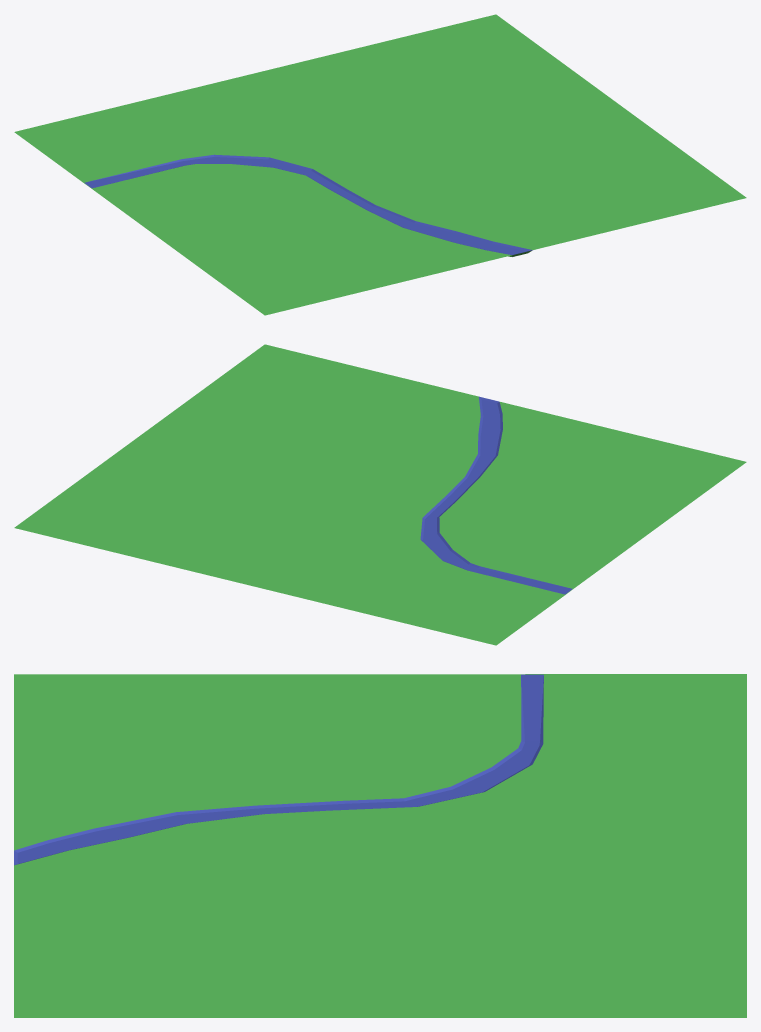
The model's file is terrain.obj.
3 views of the same model, one above another, from view 1: azimuth 30°, elevation 25°; view 2: azimuth 150°, elevation 25°; view 3: azimuth 270°, elevation 25° (orthographic). The views are drawn at different scales.
Visible parts, largest first — view 1: Plane, Plane.001; view 2: Plane, Plane.001; view 3: Plane, Plane.001.
Boxes of the visible parts, x1,y1,x2,y2 form: Plane: [14, 14, 746, 315]; Plane.001: [84, 154, 532, 255]; Plane: [14, 344, 746, 645]; Plane.001: [420, 396, 572, 594]; Plane: [14, 674, 746, 1017]; Plane.001: [14, 674, 543, 865].
Bounding box in the file's own units: 2145 × 13.35 × 1932.
Materials: 2 (2 with a texture image).
